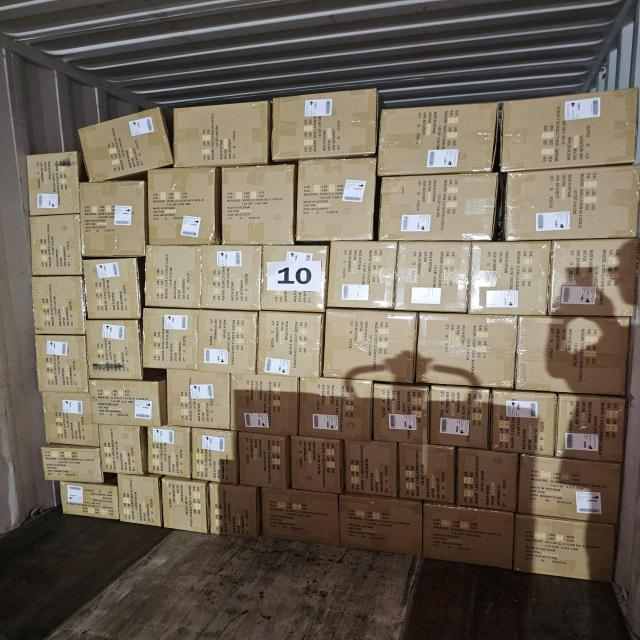Carton: (502, 92, 639, 174), (502, 163, 638, 239), (518, 321, 630, 401), (380, 104, 498, 178), (380, 170, 499, 241), (414, 313, 516, 388), (270, 91, 375, 162), (519, 455, 623, 524), (548, 241, 638, 320), (514, 515, 618, 583), (324, 310, 417, 383), (300, 160, 378, 245), (83, 108, 173, 180), (172, 104, 270, 169), (469, 241, 552, 316), (424, 507, 517, 573), (219, 169, 294, 248), (396, 243, 472, 316), (146, 168, 216, 247), (78, 183, 146, 260), (337, 496, 422, 556), (327, 242, 398, 312), (554, 395, 625, 464), (301, 375, 375, 439), (262, 244, 329, 312), (260, 492, 340, 548), (490, 392, 556, 458), (257, 312, 323, 377), (233, 373, 302, 433), (200, 245, 261, 311), (456, 452, 519, 515), (167, 372, 232, 432), (199, 313, 259, 377), (429, 387, 489, 449), (147, 245, 204, 310), (374, 384, 432, 445), (84, 256, 140, 319), (145, 310, 201, 373), (28, 154, 82, 218), (88, 382, 162, 428), (400, 446, 458, 504), (85, 321, 140, 382), (32, 217, 82, 279), (32, 276, 84, 335), (36, 335, 88, 394), (292, 440, 346, 496), (345, 440, 398, 496), (209, 486, 262, 540), (42, 395, 97, 447), (237, 434, 290, 486), (192, 427, 240, 482), (163, 479, 210, 531), (61, 483, 121, 521), (146, 426, 189, 478), (118, 475, 161, 527), (100, 424, 146, 472)
